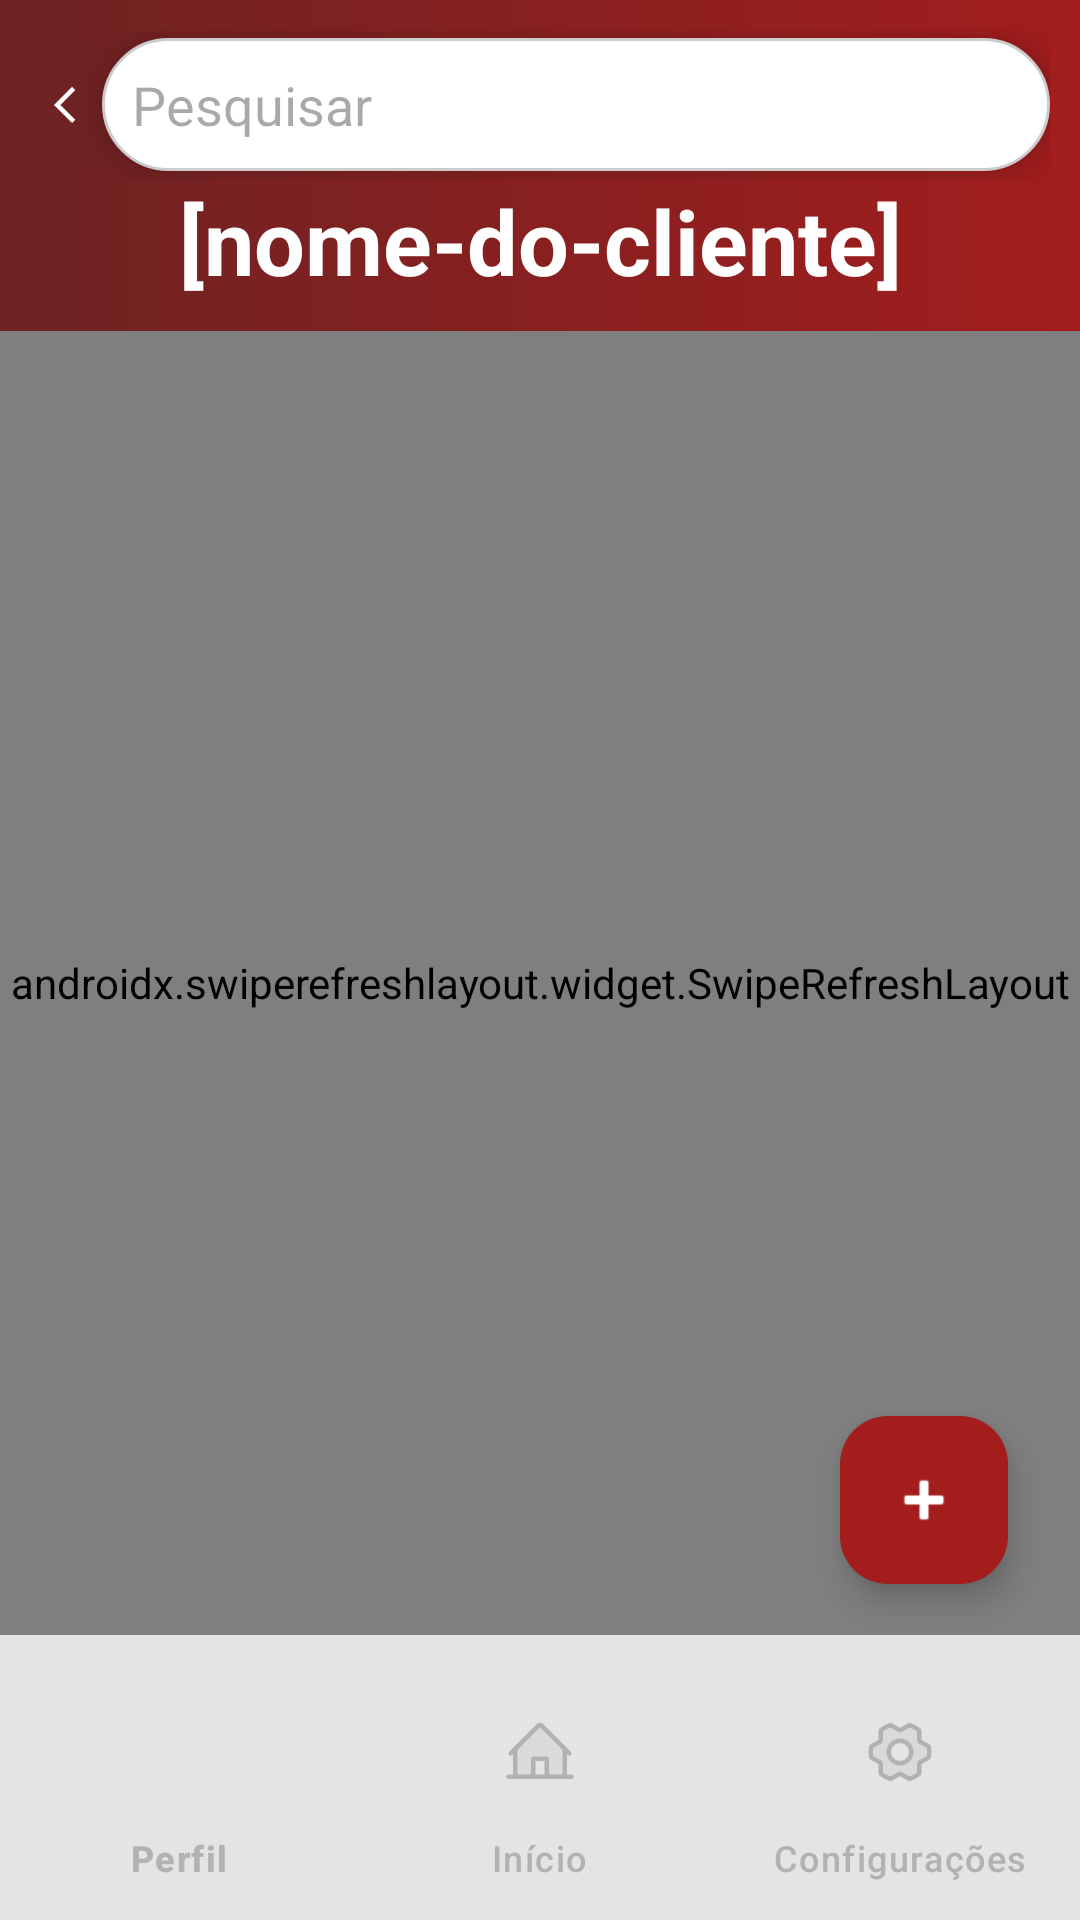

Icon click points for this 1080×1920 phone screenshot, format (x=x, y=y):
Adicionar: (x=924, y=1500)
arrow left: (x=64, y=105)
